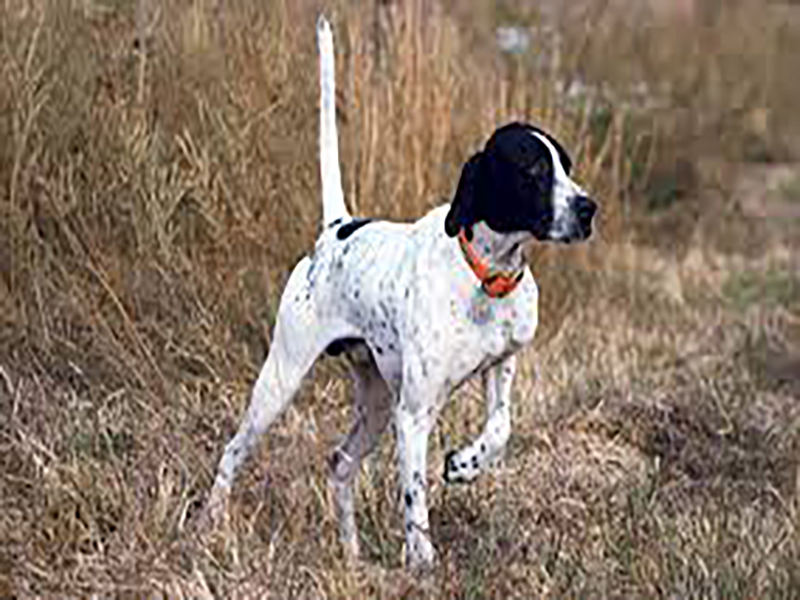cane da caccia: (188, 105, 600, 556)
